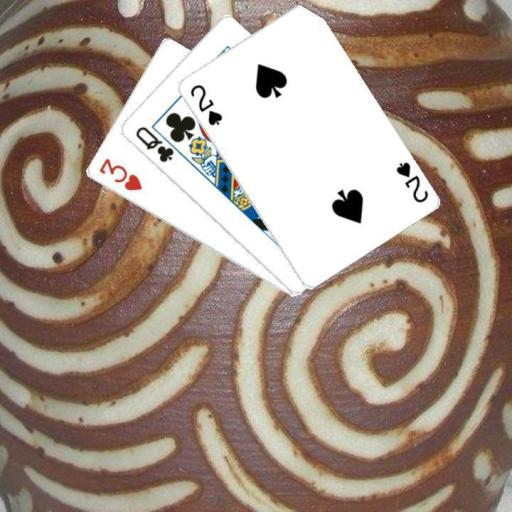card-corner: (95, 155, 144, 193), (132, 123, 176, 164), (186, 81, 224, 127), (392, 158, 429, 204)
